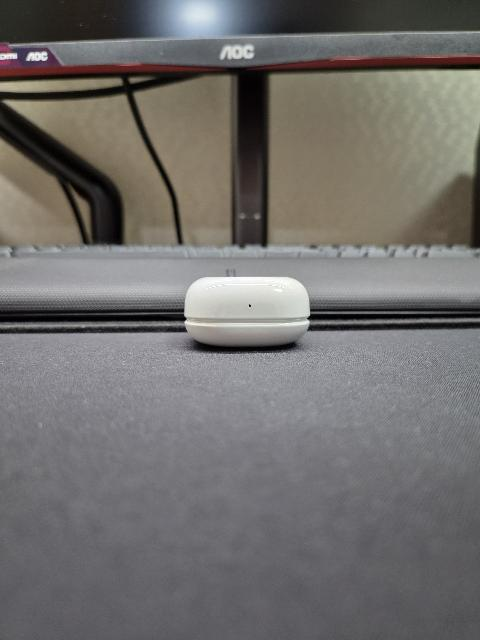earphone_case: (184, 276, 310, 346)
